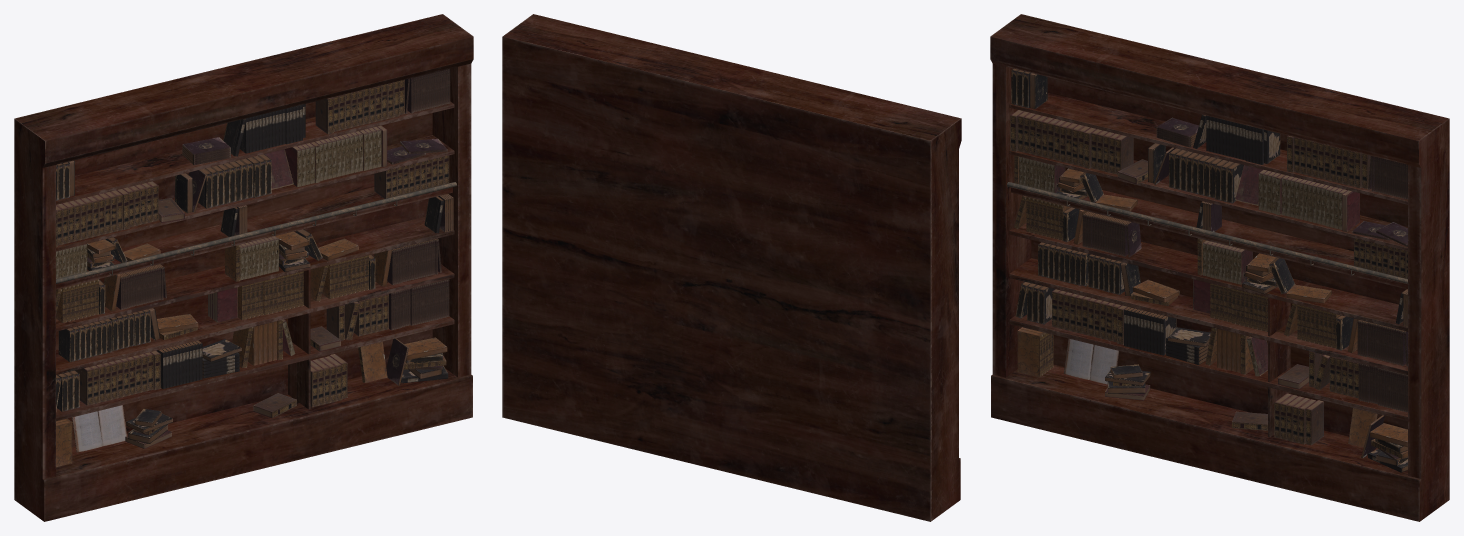
The model's file is BookCase.fbx.
3 renders of one model, left to right at view 1: azimuth 30°, elevation 25°; view 2: azimuth 150°, elevation 25°; view 3: azimuth 330°, elevation 25°, orthographic.
Visible parts, largest first — view 1: SM_BookcaseB_LOD0; view 2: SM_BookcaseB_LOD0; view 3: SM_BookcaseB_LOD0.
Part boxes in pixels (<box>): SM_BookcaseB_LOD0: <box>14,14,473,521</box>; SM_BookcaseB_LOD0: <box>502,14,961,521</box>; SM_BookcaseB_LOD0: <box>990,14,1449,521</box>.
Bounding box in the file's own units: 400 × 340 × 50.
